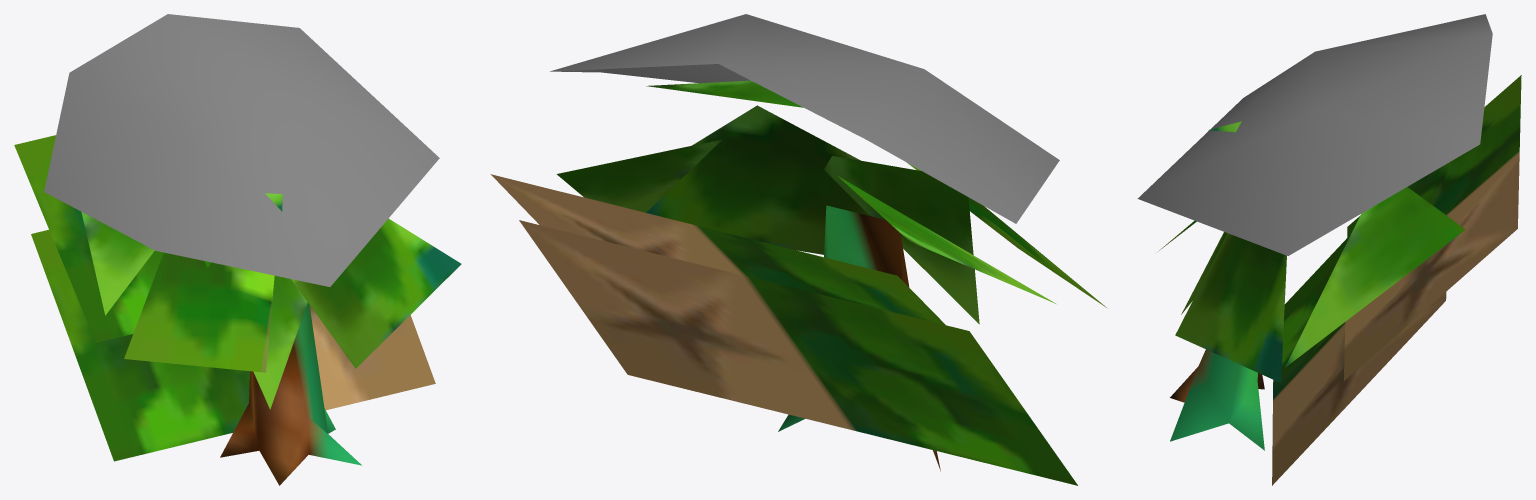
The model's file is fg_bushC_1_s.dae.
3 renders of one model, left to right at view 1: azimuth 30°, elevation 25°; view 2: azimuth 150°, elevation 25°; view 3: azimuth 270°, elevation 25°, orthographic. The views are drawn at different scales.
Visible parts, largest first — view 1: fg_bushC_1_s; view 2: fg_bushC_1_s; view 3: fg_bushC_1_s.
Part boxes in pixels (left/top/right/bottom): fg_bushC_1_s: left=14, top=14, right=461, bottom=485; fg_bushC_1_s: left=490, top=14, right=1106, bottom=485; fg_bushC_1_s: left=1137, top=14, right=1521, bottom=485.
Bounding box in the file's own units: 31.21 × 29 × 26.29.
1 material, 1 textured.
